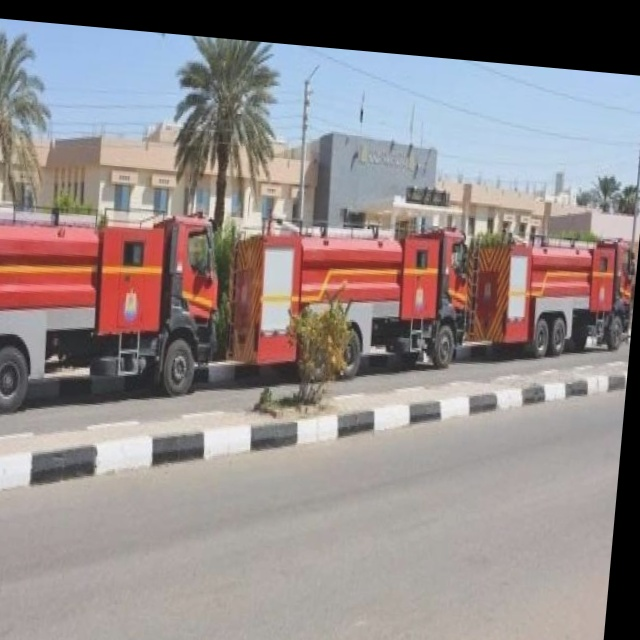Fire-truck: (0, 156, 231, 490), (225, 184, 490, 411), (478, 184, 640, 374)
